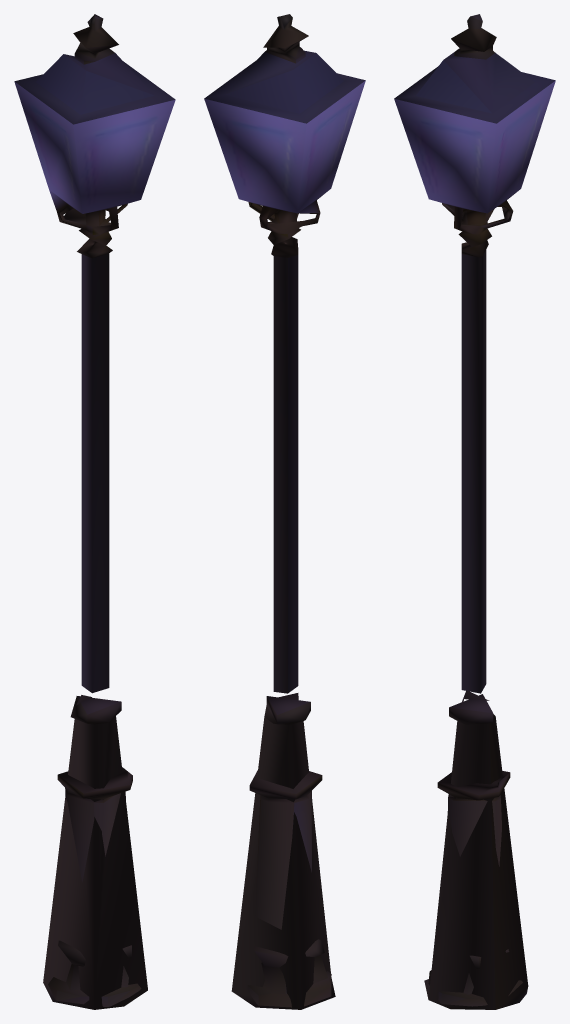
File: model.progressive.glb
3 renders of one model, left to right at view 1: azimuth 30°, elevation 25°; view 2: azimuth 150°, elevation 25°; view 3: azimuth 330°, elevation 25°, orthographic.
Visible parts, largest first — view 1: material; view 2: material; view 3: material.
Boxes of the visible parts, left/top/right/bottom form: material: left=14, top=14, right=175, bottom=1009; material: left=204, top=14, right=365, bottom=1009; material: left=394, top=14, right=555, bottom=1009.
Size of the model in its own units: 0.2089 by 1.9 by 0.2089.
1 material, 1 textured.
